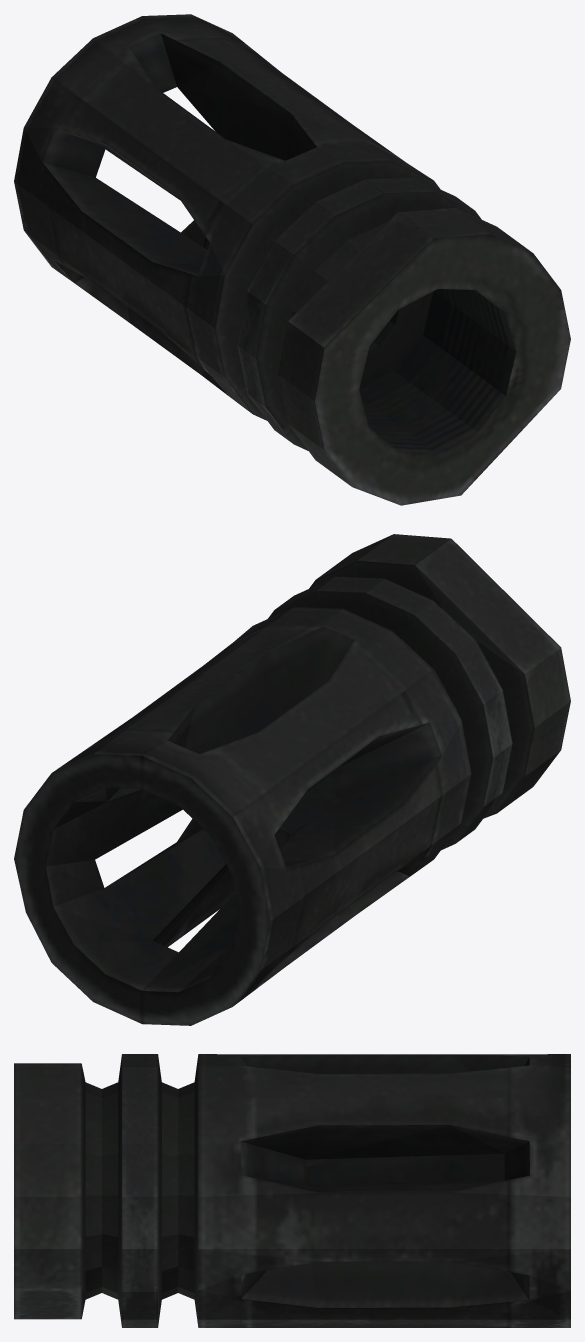
3 renders of one model, top to bottom at view 1: azimuth 30°, elevation 25°; view 2: azimuth 150°, elevation 25°; view 3: azimuth 270°, elevation 25°, orthographic. The views are drawn at different scales.
Parts seen in each view (by area): view 1: TW_544a38634bdc2d58388b4568_PZ_Import; view 2: TW_544a38634bdc2d58388b4568_PZ_Import; view 3: TW_544a38634bdc2d58388b4568_PZ_Import.
Part boxes in pixels (x1,y1,x2,y2): TW_544a38634bdc2d58388b4568_PZ_Import: [14, 14, 570, 505]; TW_544a38634bdc2d58388b4568_PZ_Import: [14, 534, 570, 1025]; TW_544a38634bdc2d58388b4568_PZ_Import: [14, 1054, 570, 1327].
Size of the model in its own units: 0.0126 by 0.0256 by 0.0126.
Materials: 1 (1 with a texture image).
